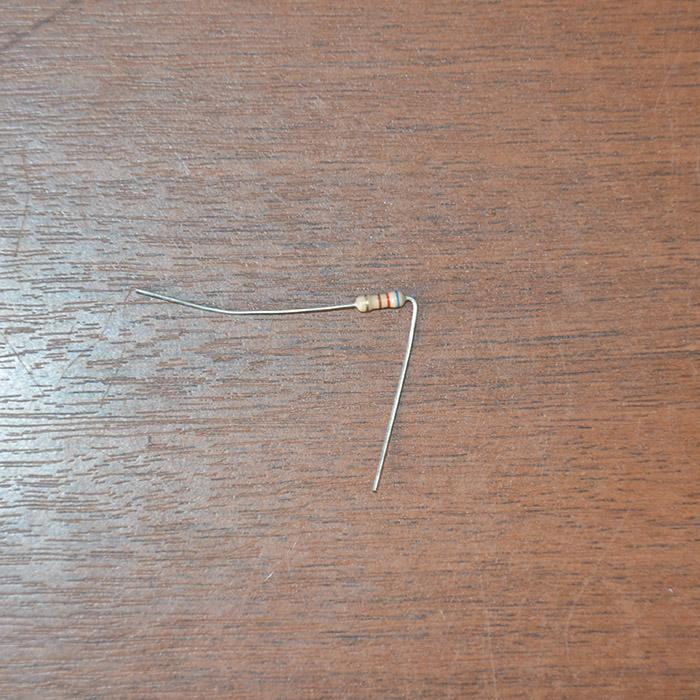resistor: (355, 289, 404, 312)
